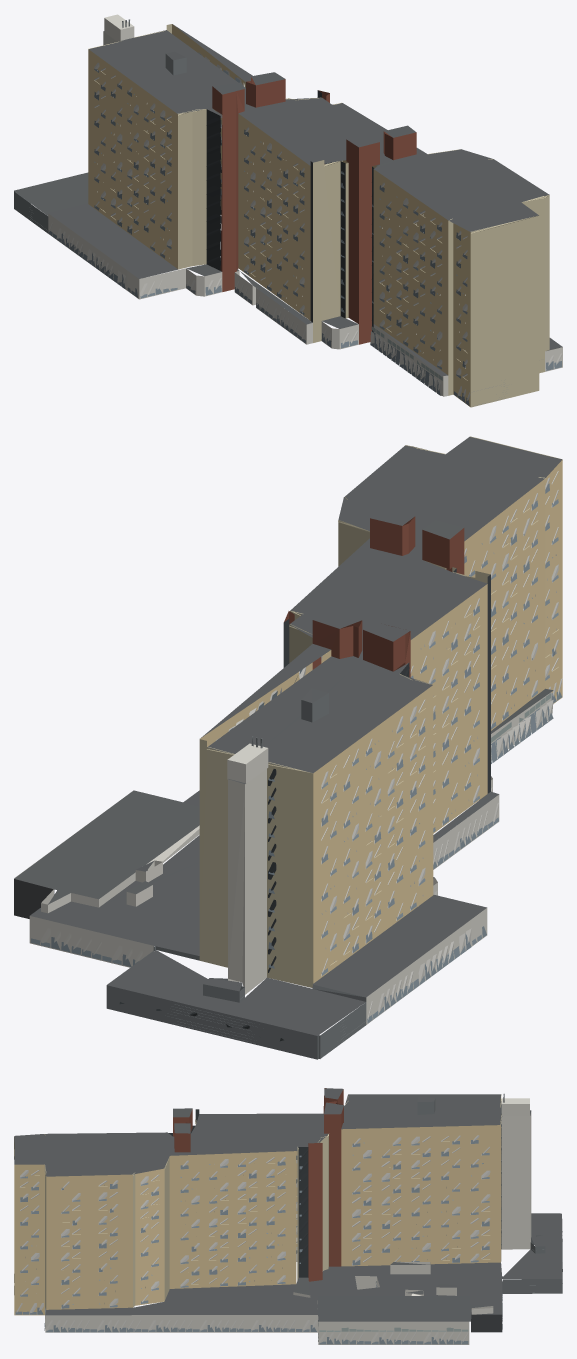
File: kramatplantsoen.lod1.glb
3 renders of one model, top to bottom at view 1: azimuth 30°, elevation 25°; view 2: azimuth 150°, elevation 25°; view 3: azimuth 270°, elevation 25°, orthographic. The views are drawn at different scales.
Parts seen in each view (by area): view 1: kramatplantsoen; view 2: kramatplantsoen; view 3: kramatplantsoen.
Part boxes in pixels (x1,y1,x2,y2): kramatplantsoen: [14, 14, 562, 407]; kramatplantsoen: [14, 436, 562, 1059]; kramatplantsoen: [14, 1088, 562, 1344].
Size of the model in its own units: 60.41 by 40.93 by 120.
